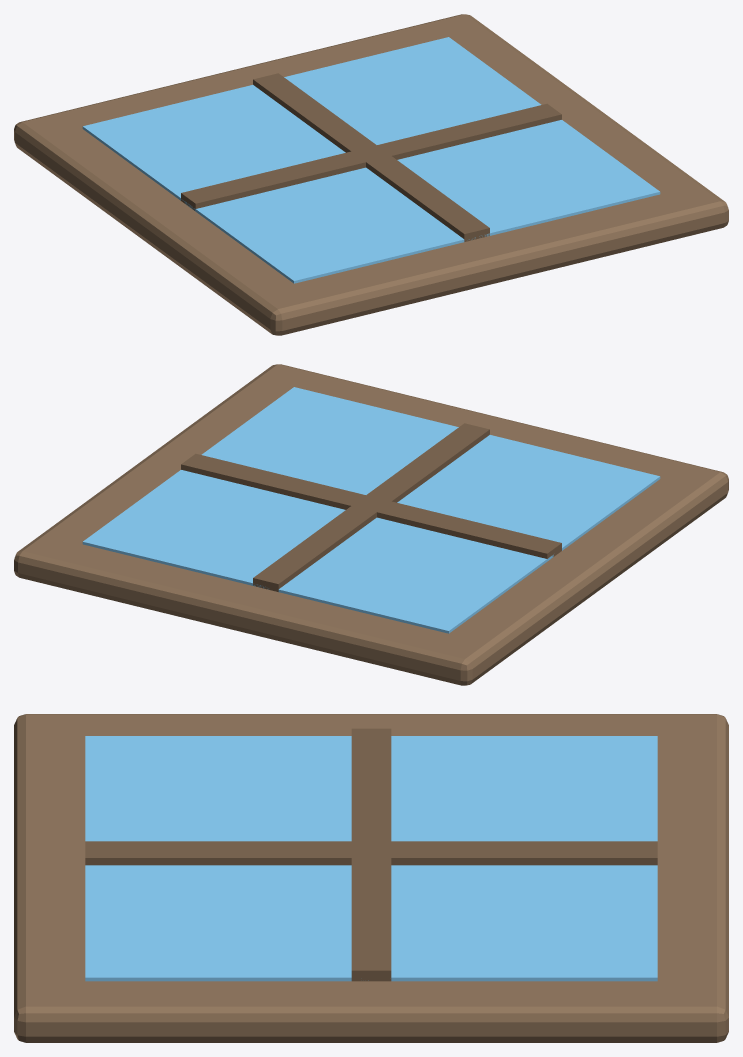
The model's file is portal_blue.glb.
The picture shows the model from 3 angles, top to bottom: view 1: azimuth 30°, elevation 25°; view 2: azimuth 150°, elevation 25°; view 3: azimuth 270°, elevation 25°; orthographic projection. The views are drawn at different scales.
Parts seen in each view (by area): view 1: portal_blue; view 2: portal_blue; view 3: portal_blue.
Boxes of the visible parts, box(x1,y1,x2,y2) form: portal_blue: box(14, 14, 728, 335); portal_blue: box(14, 364, 728, 685); portal_blue: box(14, 714, 728, 1042).
Bounding box in the file's own units: 0.9 × 0.065 × 0.9.
